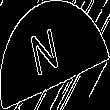N_S: (37, 25, 73, 85)
